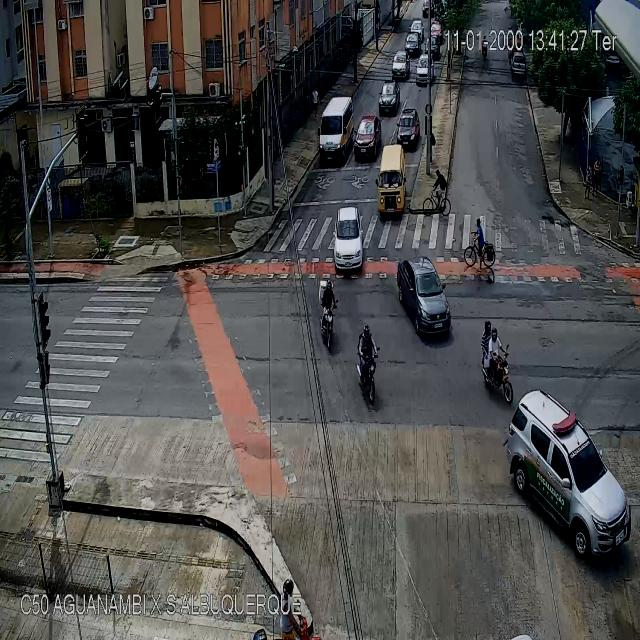Car: (507, 390, 632, 554), (375, 143, 407, 214), (318, 95, 352, 158), (332, 206, 362, 270), (354, 115, 381, 155), (396, 110, 420, 149), (378, 83, 399, 115), (416, 54, 432, 86), (391, 53, 407, 80), (510, 52, 526, 76), (404, 31, 418, 56), (426, 36, 438, 60), (430, 23, 442, 46), (411, 18, 423, 40), (482, 34, 488, 62)
Motorcycle: (481, 322, 512, 406), (359, 322, 379, 406), (320, 278, 336, 350)
